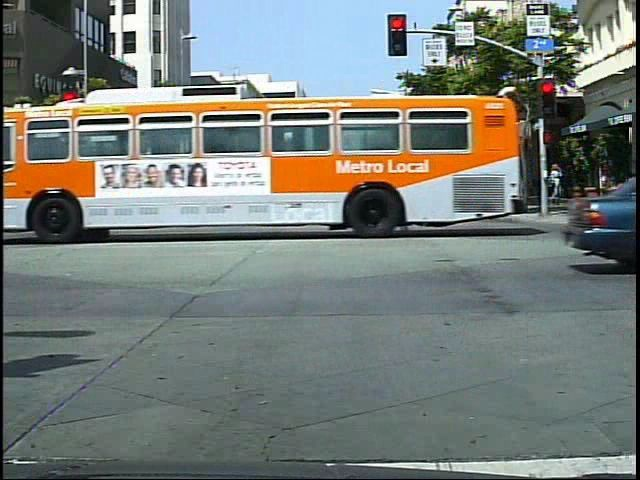person: (282, 165, 314, 229), (182, 168, 212, 234), (345, 166, 374, 230), (547, 160, 570, 211)
